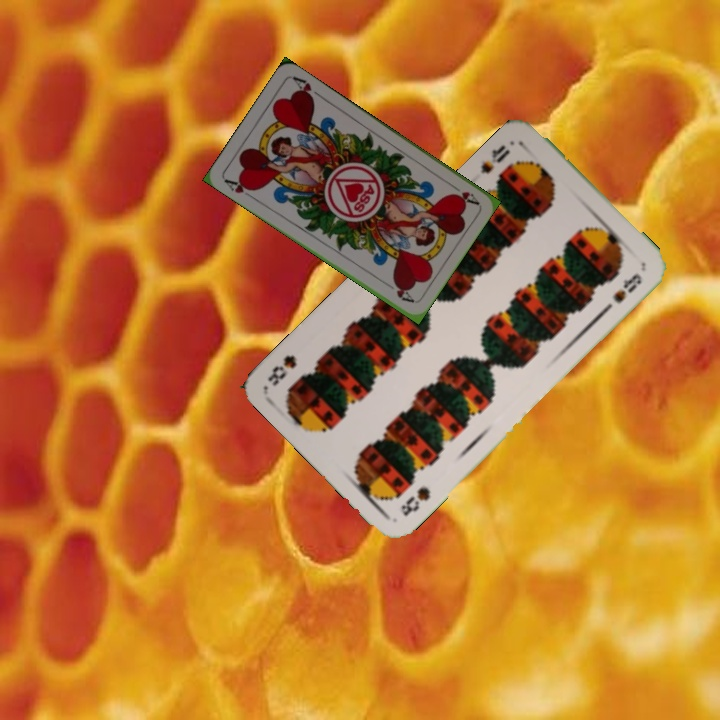HA: (445, 179, 481, 207), (220, 175, 257, 202)
S8: (396, 482, 433, 519), (476, 140, 513, 176)
